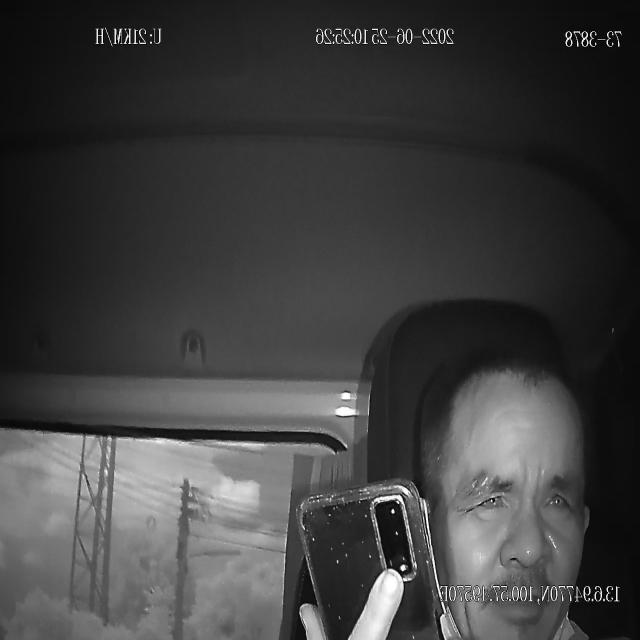phone: (297, 479, 441, 640)
